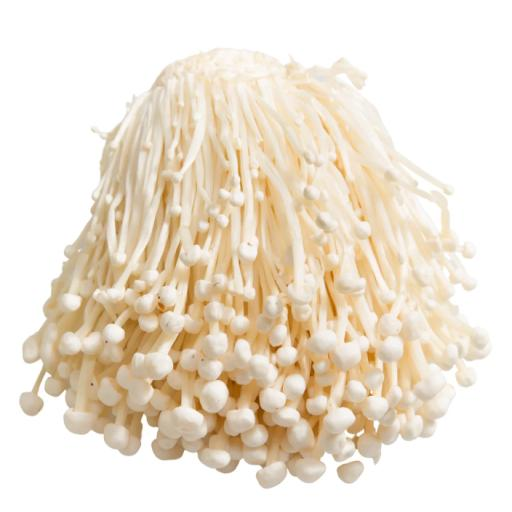Enoki Mushroom: (8, 26, 512, 509)
